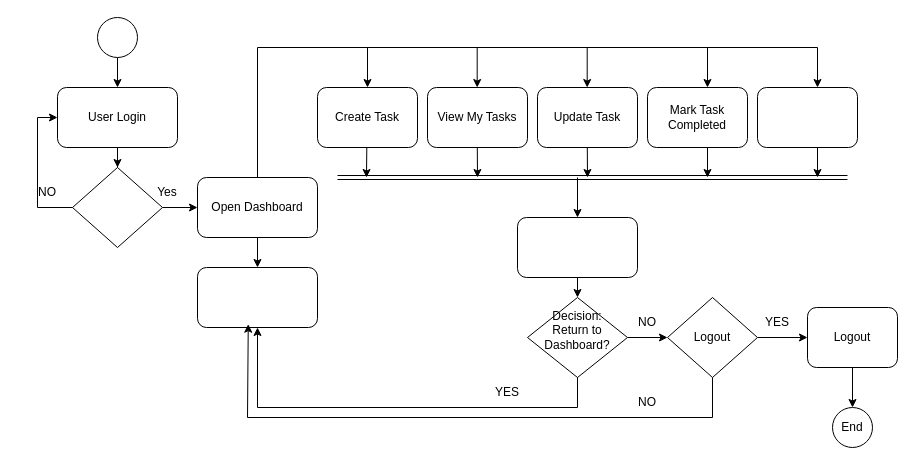
Some shapes in this 915 by 465 pixel diagram are drawn without their labels. Each missing label, with the centre of its shape:
"Delete Task" belongs at (x=807, y=117).
"Login Success?" belongs at (x=117, y=207).
"Return To Dashboard" belongs at (x=577, y=247).
"Start" belongs at (x=117, y=37).
"User Action" belongs at (x=257, y=297).
